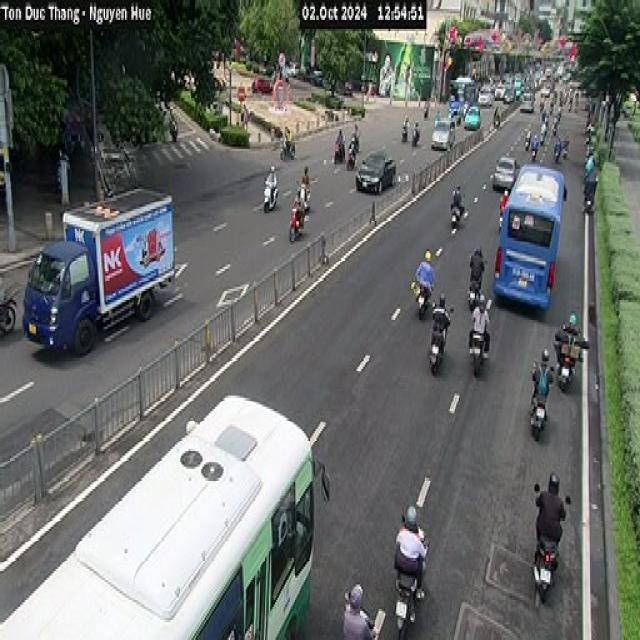bus: (0, 393, 315, 638), (492, 162, 566, 309)
car: (355, 151, 395, 193), (491, 156, 519, 191), (430, 118, 454, 149), (465, 99, 480, 129)
motorcycle: (389, 564, 434, 638), (522, 530, 569, 599), (518, 380, 546, 442), (428, 304, 452, 376), (554, 331, 581, 391), (0, 284, 24, 340), (468, 326, 490, 376), (410, 278, 431, 320), (297, 182, 322, 215), (289, 198, 305, 242), (280, 143, 306, 165), (262, 178, 278, 211), (582, 191, 598, 223), (467, 278, 482, 311), (453, 199, 467, 227), (402, 123, 417, 148), (413, 126, 421, 162), (347, 136, 365, 152), (331, 149, 348, 165)
person: (393, 504, 428, 600), (534, 471, 566, 567), (342, 582, 378, 638), (559, 304, 589, 366), (534, 339, 558, 416), (469, 294, 490, 354), (414, 249, 434, 304), (469, 245, 485, 291), (277, 120, 297, 152), (588, 148, 600, 194), (264, 165, 278, 202), (296, 193, 309, 228), (299, 164, 314, 194), (456, 174, 469, 204), (350, 123, 363, 148), (408, 116, 422, 139), (333, 126, 344, 154), (348, 147, 358, 174), (400, 112, 410, 133)
truck: (21, 182, 178, 356)
